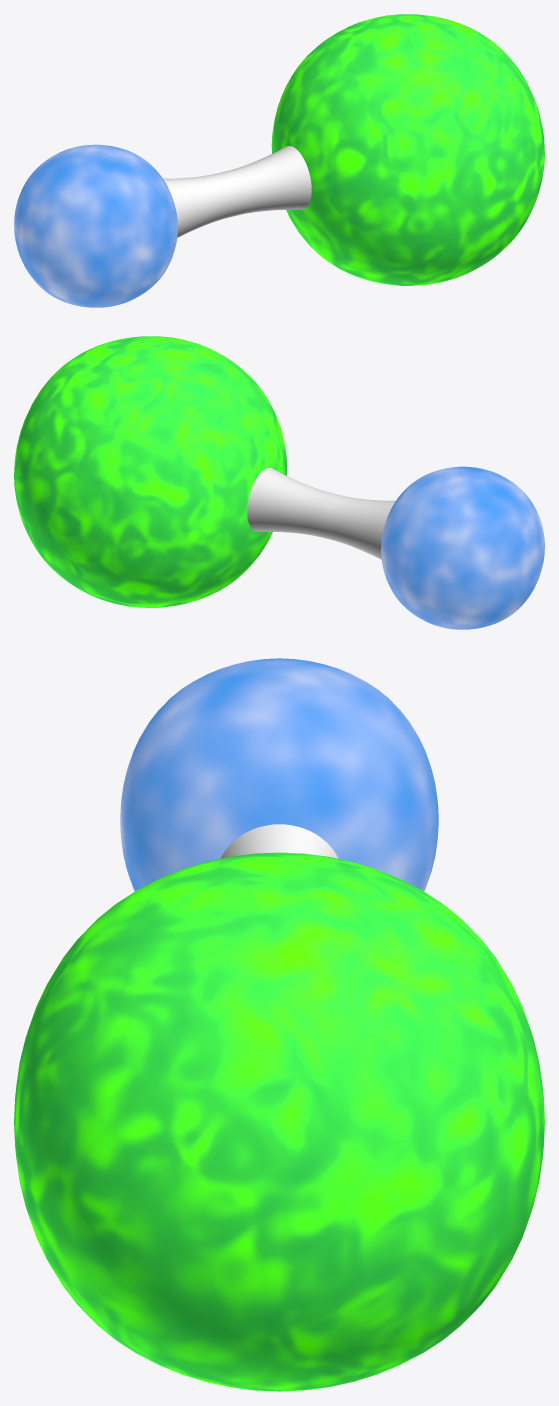
File: HCl.glb
3 renders of one model, top to bottom at view 1: azimuth 30°, elevation 25°; view 2: azimuth 150°, elevation 25°; view 3: azimuth 270°, elevation 25°, orthographic. The views are drawn at different scales.
Parts seen in each view (by area): view 1: jednosytne_kyseliny; view 2: jednosytne_kyseliny; view 3: jednosytne_kyseliny.
Part boxes in pixels (<box>): jednosytne_kyseliny: <box>14,14,544,307</box>; jednosytne_kyseliny: <box>14,336,544,629</box>; jednosytne_kyseliny: <box>14,658,544,1391</box>.
Size of the model in its own units: 5.2 by 2.42 by 2.42.
3 materials, 2 textured.
